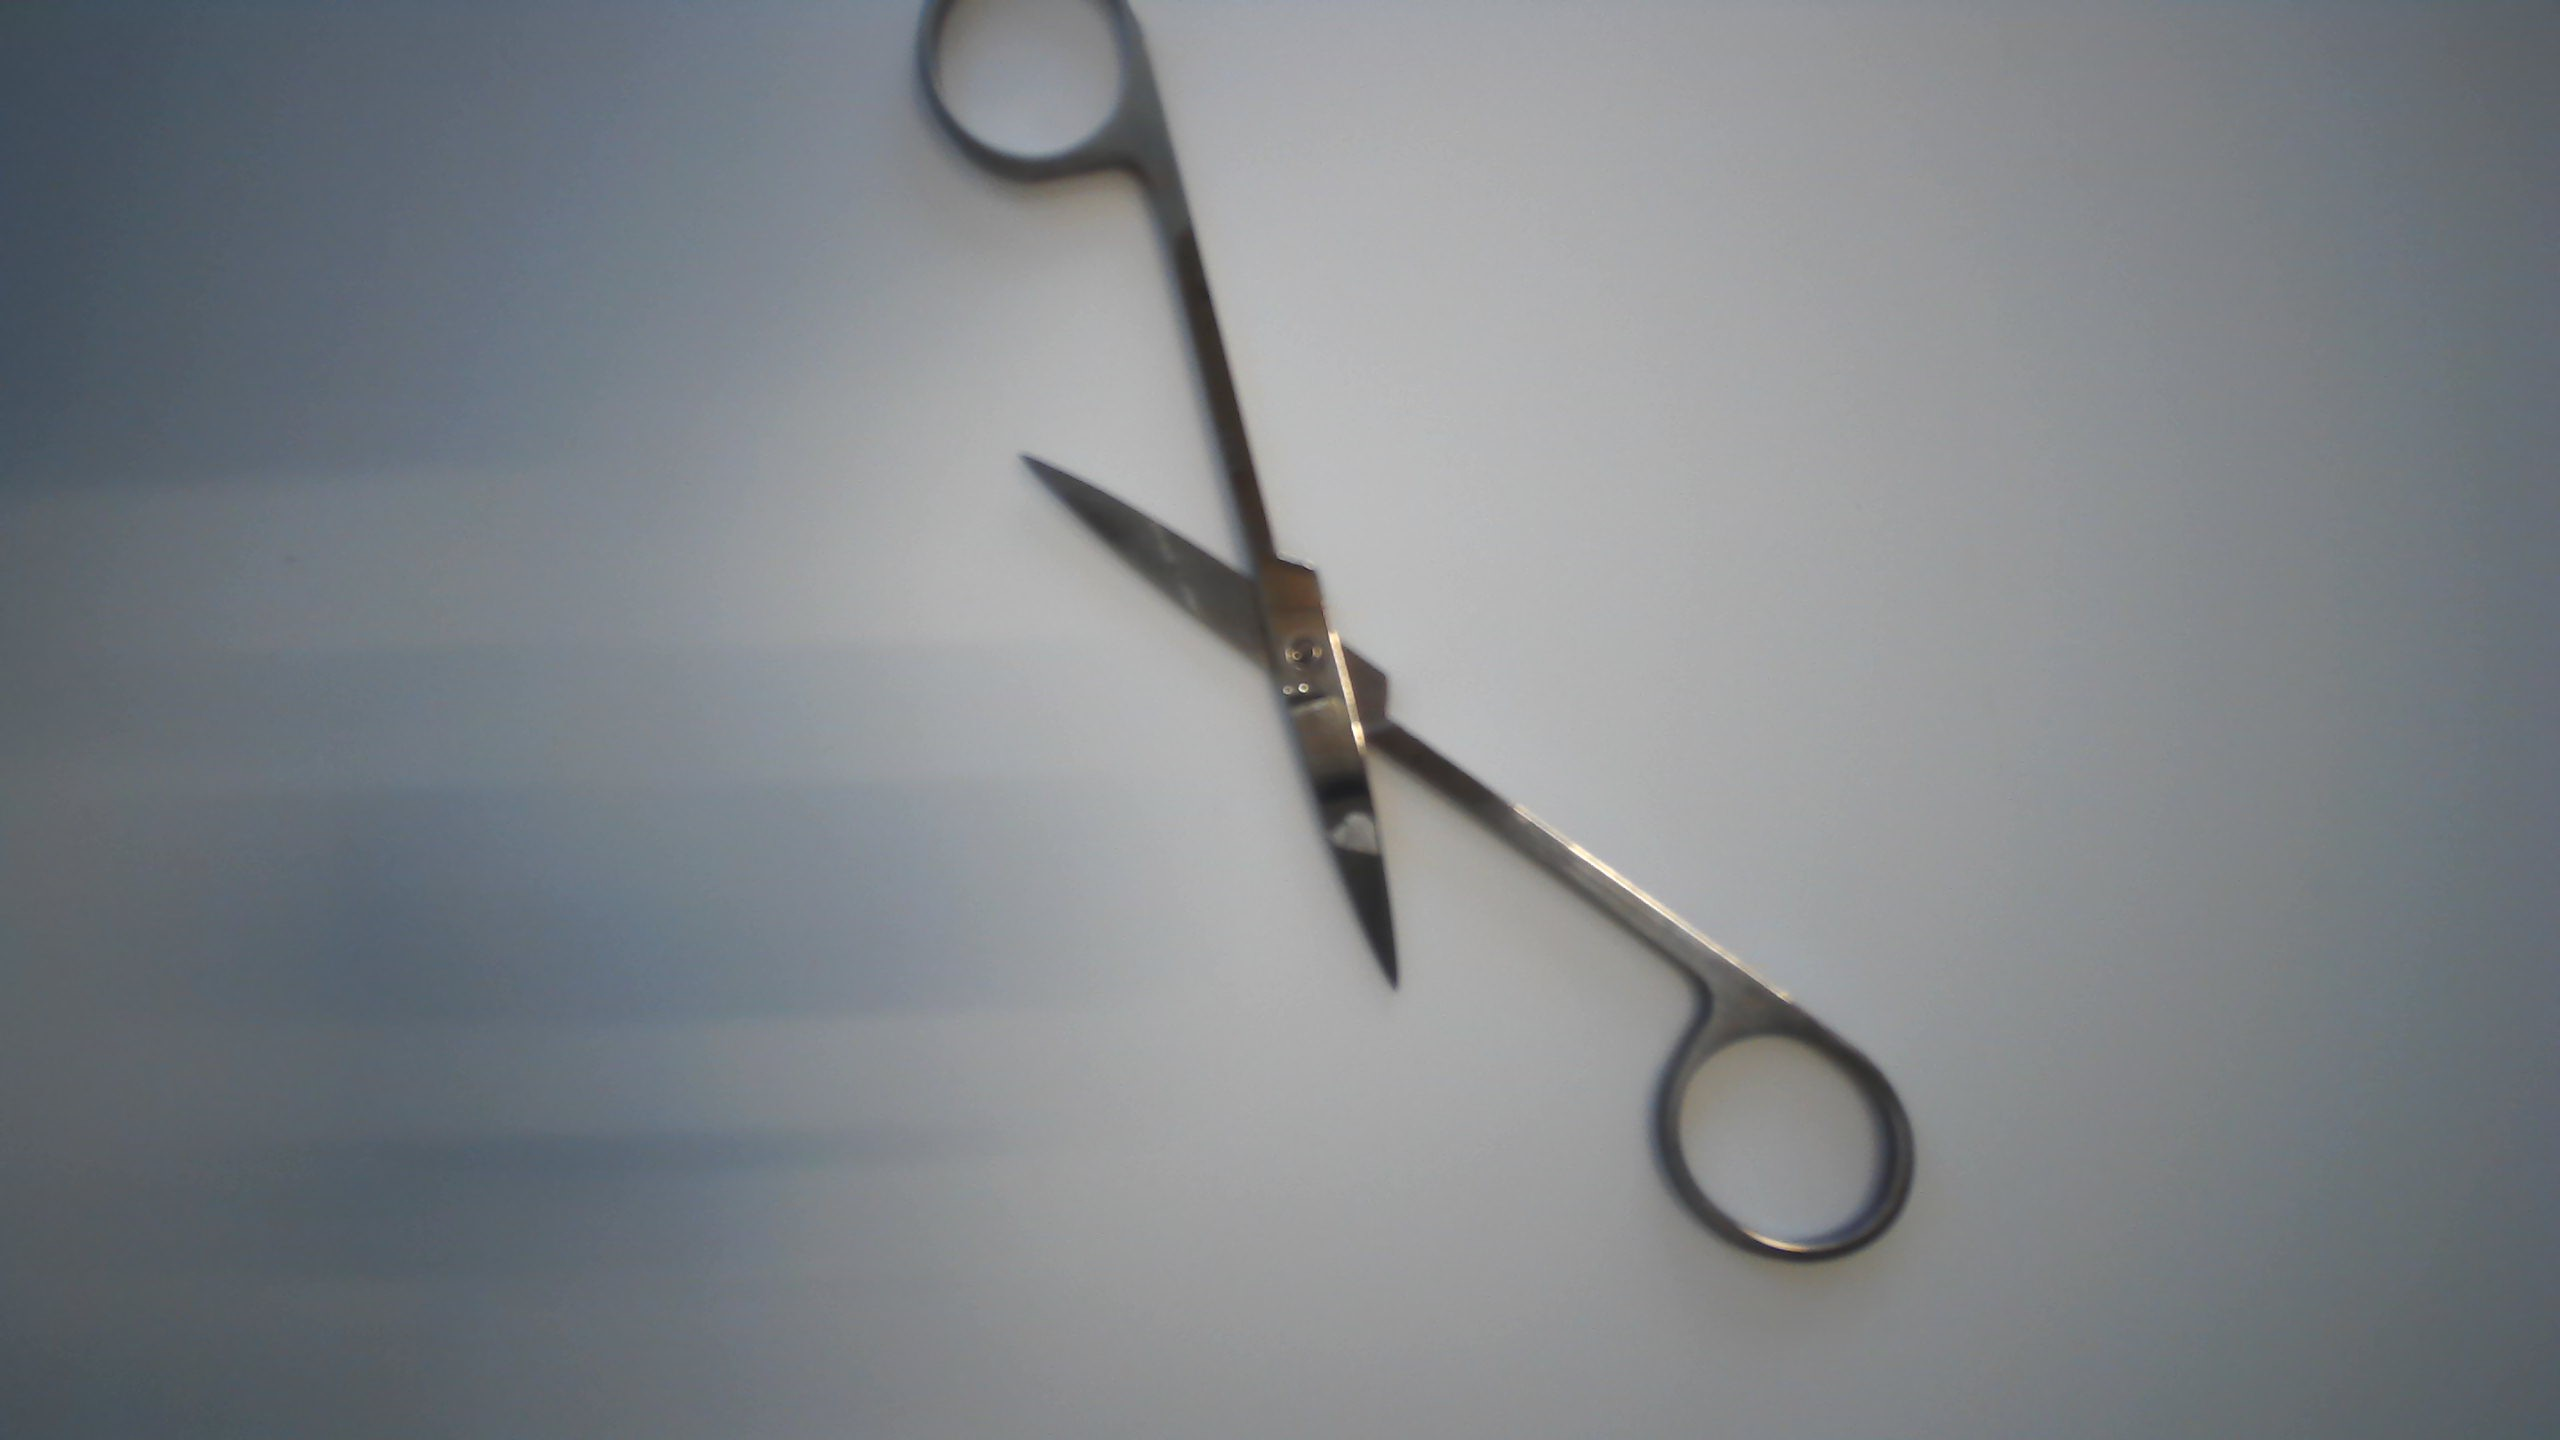Tissues: (1320, 795, 1391, 862)
